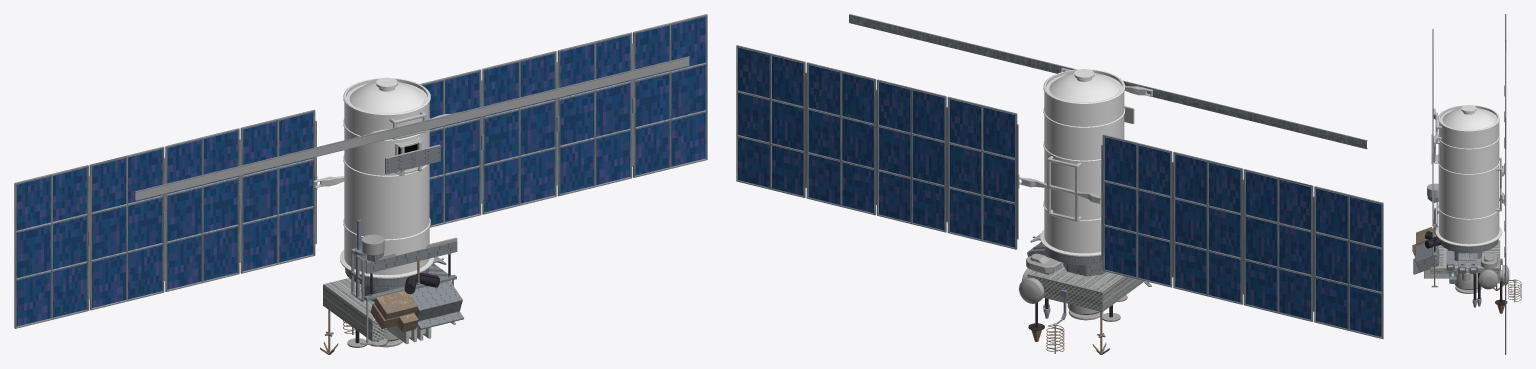
3 renders of one model, left to right at view 1: azimuth 30°, elevation 25°; view 2: azimuth 150°, elevation 25°; view 3: azimuth 270°, elevation 25°, orthographic. The views are drawn at different scales.
Parts seen in each view (by area): view 1: Meteor-M2; view 2: Meteor-M2; view 3: Meteor-M2.
Part boxes in pixels (x1,y1,x2,y2): Meteor-M2: (14,14,707,354); Meteor-M2: (736,14,1383,354); Meteor-M2: (1412,14,1521,354).
Bounding box in the file's own units: 18.68 × 7.15 × 3.63.
1 material, 1 textured.
